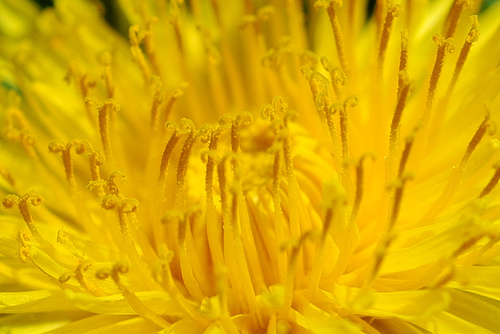dandelion: (1, 1, 500, 333)
